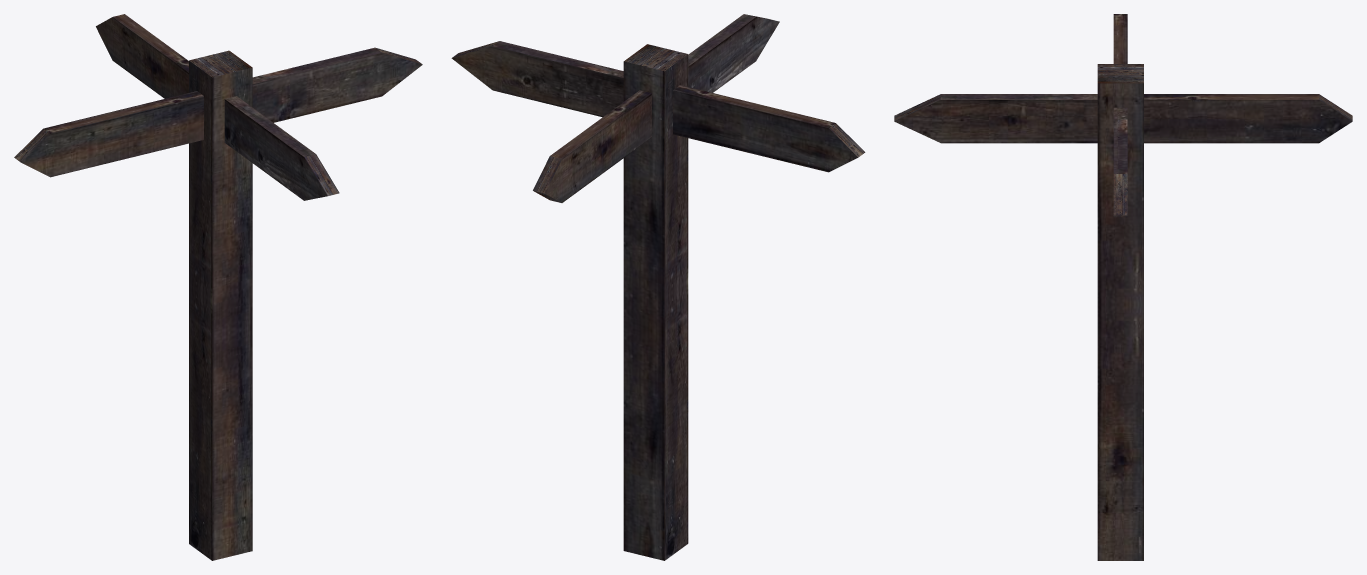
File: Signpost_Medieval.glb
3 views of the same model, side by side, from view 1: azimuth 30°, elevation 25°; view 2: azimuth 150°, elevation 25°; view 3: azimuth 270°, elevation 25° (orthographic). The views are drawn at different scales.
Visible parts, largest first — view 1: Sign_SignPost, Sign_Sign3, Sign_Sign2, Sign_Sign1, Sign_Sign4; view 2: Sign_SignPost, Sign_Sign3, Sign_Sign2, Sign_Sign4, Sign_Sign1; view 3: Sign_SignPost, Sign_Sign4, Sign_Sign1, Sign_Sign2, Sign_Sign3.
Boxes of the visible parts, x1,y1,x2,y2 form: Sign_SignPost: (189,50,252,560); Sign_Sign3: (14,91,203,177); Sign_Sign2: (252,47,422,122); Sign_Sign1: (224,96,339,200); Sign_Sign4: (96,14,188,98); Sign_SignPost: (623,44,688,560); Sign_Sign3: (673,85,865,172); Sign_Sign2: (451,41,623,117); Sign_Sign4: (533,90,651,202); Sign_Sign1: (688,14,779,92); Sign_SignPost: (1097,64,1143,560); Sign_Sign4: (1144,94,1352,143); Sign_Sign1: (894,94,1097,143); Sign_Sign2: (1113,107,1127,217); Sign_Sign3: (1113,14,1127,63).
Size of the model in its own units: 2.12 by 2.44 by 2.12.
1 material, 1 textured.
